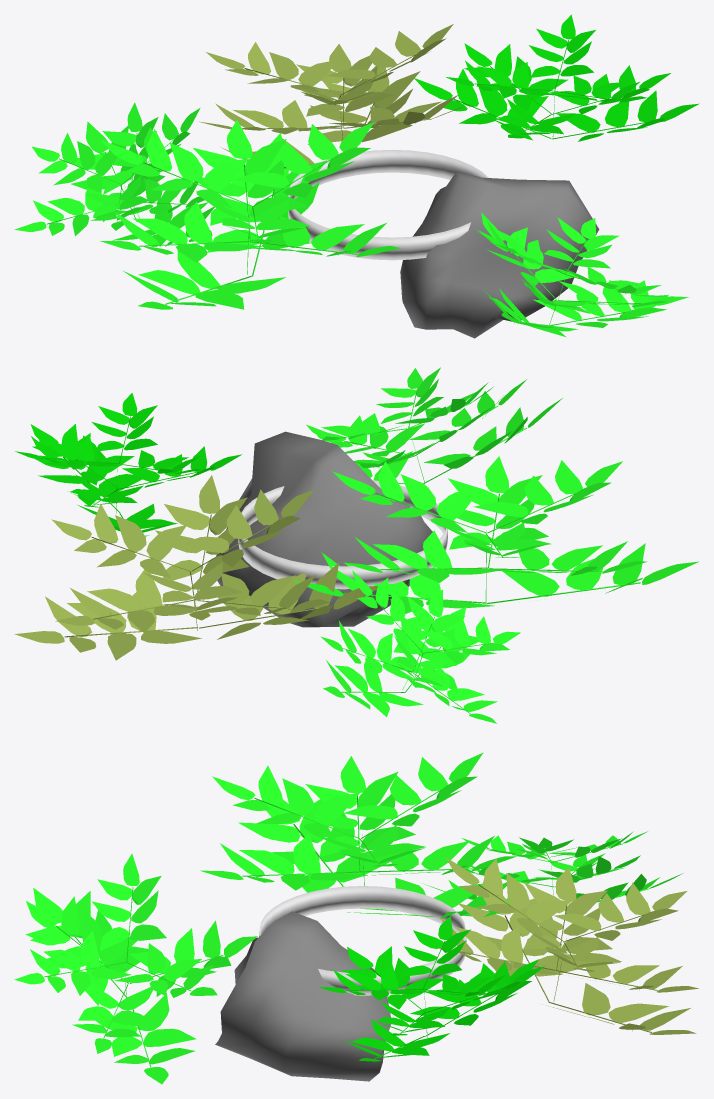
The model's file is static_grass_small.fbx.
The picture shows the model from 3 angles, top to bottom: view 1: azimuth 30°, elevation 25°; view 2: azimuth 150°, elevation 25°; view 3: azimuth 270°, elevation 25°; orthographic projection.
Parts seen in each view (by area): view 1: plant.002, Cube, plant.001, plant, plant.004, plant.003, Torus; view 2: plant, plant.002, Cube, plant.004, plant.001, plant.003, Torus; view 3: plant.002, plant.003, Cube, plant, plant.001, Torus, plant.004.
Boxes of the visible parts, x1,y1,x2,y2 form: plant.002: (100, 120, 400, 309); Cube: (400, 171, 599, 338); plant.001: (414, 14, 699, 141); plant: (199, 24, 463, 169); plant.004: (14, 102, 214, 246); plant.003: (474, 212, 688, 337); Torus: (288, 149, 488, 260); plant: (14, 475, 377, 660); plant.002: (292, 456, 698, 613); Cube: (216, 431, 432, 627); plant.004: (320, 570, 520, 723); plant.001: (15, 393, 242, 536); plant.003: (306, 367, 562, 483); Torus: (238, 480, 447, 589); plant.002: (200, 752, 516, 918); plant.003: (14, 853, 257, 1084); Cube: (215, 911, 390, 1081); plant: (439, 857, 698, 1034); plant.001: (318, 916, 544, 1061); Torus: (259, 886, 466, 995); plant.004: (423, 831, 682, 904).
Bounding box in the file's own units: 3.37 × 0.9936 × 3.3.
